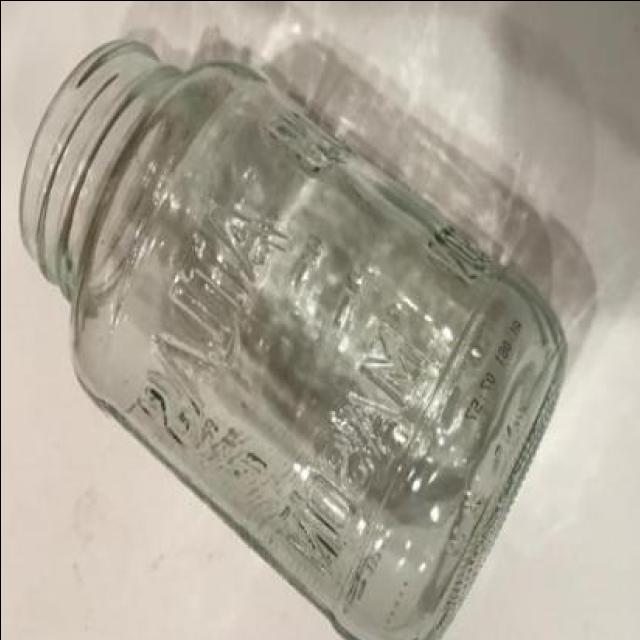kaca: (16, 39, 566, 640)
